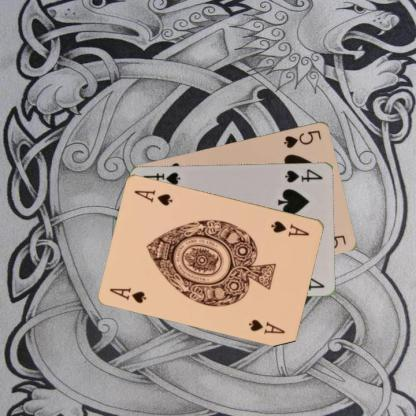4s: (283, 166, 324, 184)
5s: (281, 127, 323, 149)
As: (269, 218, 311, 237), (107, 285, 148, 304)
